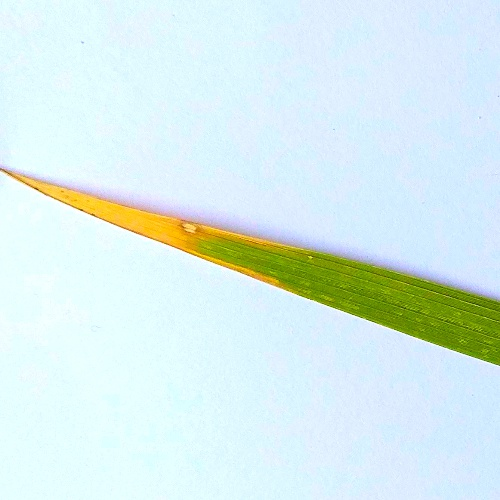Busuk Leher: (14, 154, 203, 268)
